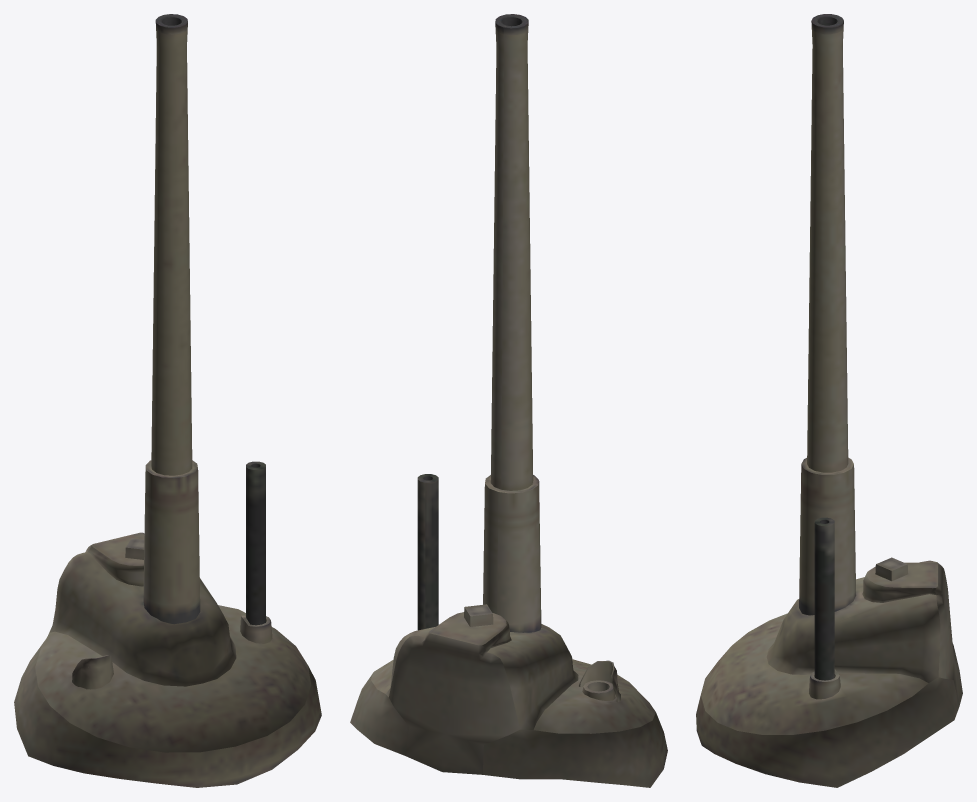
Rendered from Gun_04.glb.
3 views of the same model, side by side, from view 1: azimuth 30°, elevation 25°; view 2: azimuth 150°, elevation 25°; view 3: azimuth 270°, elevation 25° (orthographic). The views are drawn at different scales.
Parts seen in each view (by area): view 1: set_0_group_0; view 2: set_0_group_0; view 3: set_0_group_0.
Part boxes in pixels (x1,y1,x2,y2): set_0_group_0: [14, 14, 321, 787]; set_0_group_0: [350, 14, 667, 787]; set_0_group_0: [696, 14, 962, 787].
Bounding box in the file's own units: 0.5119 × 1.27 × 0.4311.
1 material, 1 textured.
